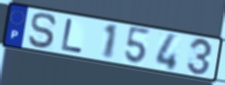1: (101, 23, 120, 60)
3: (185, 37, 213, 77)
4: (154, 32, 180, 73)
5: (122, 24, 152, 67)
L: (59, 17, 85, 55)
S: (27, 11, 59, 51)
